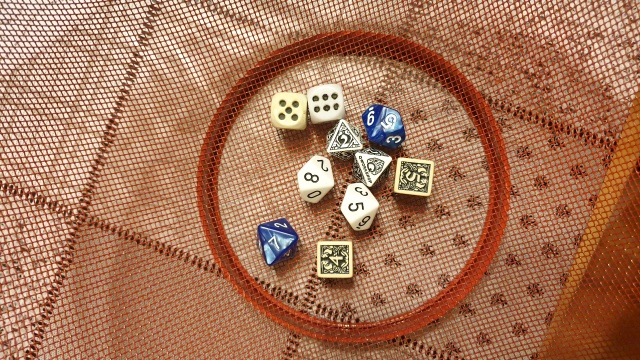d10-5: (360, 98, 409, 151), (338, 178, 380, 237)
d10-7: (252, 216, 300, 268)
d10-8: (293, 151, 336, 206)
d6-5: (269, 89, 306, 134)
d6-6: (305, 82, 344, 125)
d6p-4: (314, 238, 355, 281)
d6p-5: (392, 155, 436, 201)
d8p-2: (325, 118, 363, 165)
d8p-8: (348, 144, 391, 187)
